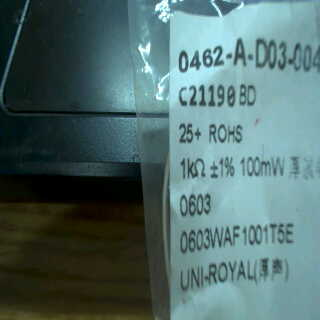1kR: (177, 153, 209, 183)
